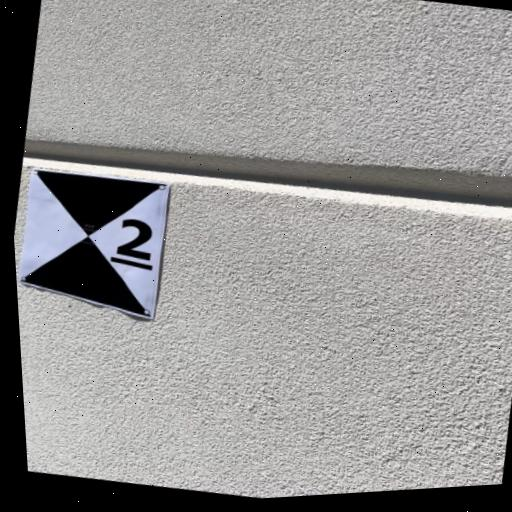target2: (19, 168, 169, 321)
